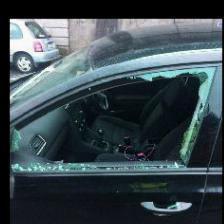glass_shatter: (13, 78, 199, 174)
